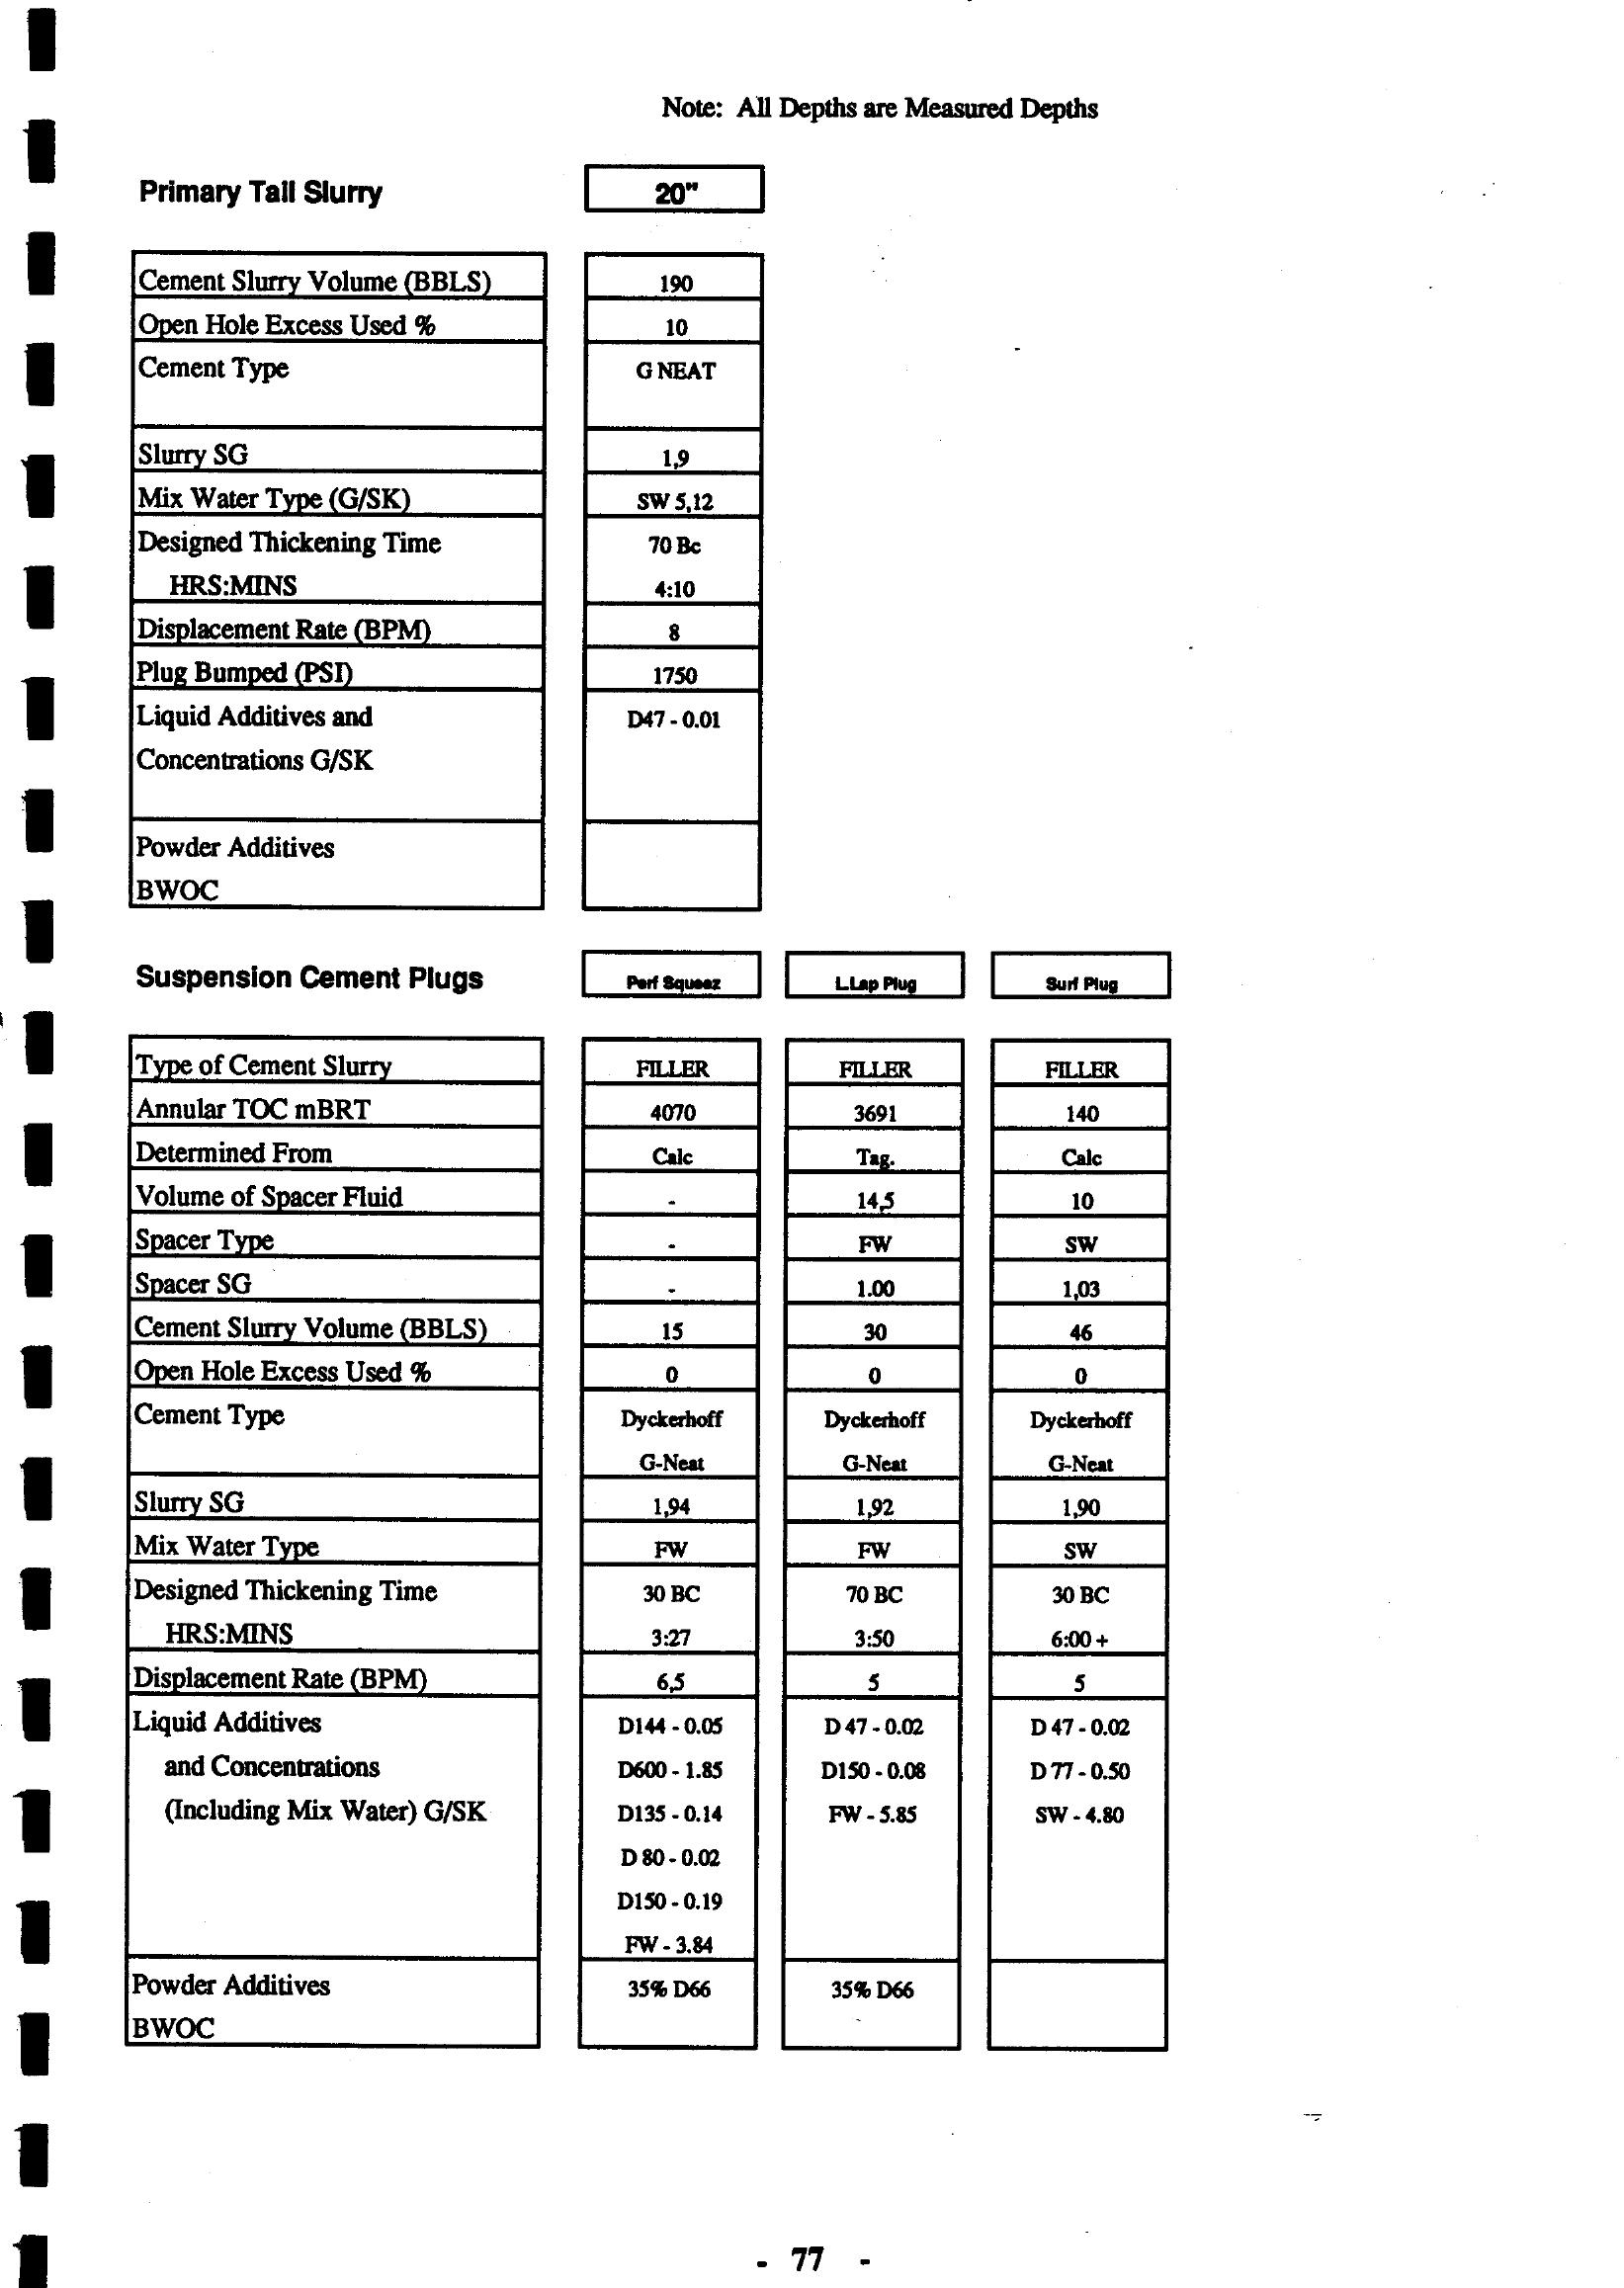table: (114, 951, 1209, 2105), (128, 148, 794, 930)
text: (636, 81, 1116, 139)
